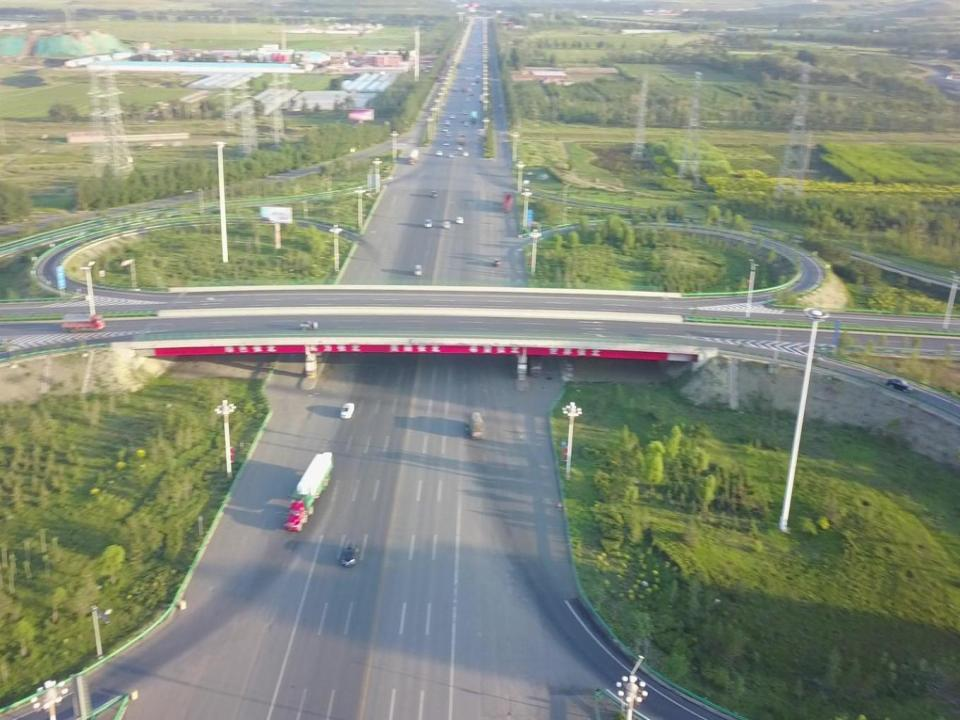car: (336, 538, 360, 570), (886, 376, 913, 395), (340, 399, 355, 424), (298, 319, 319, 332), (412, 264, 424, 278), (424, 218, 434, 230), (491, 258, 502, 268), (442, 220, 452, 231), (456, 214, 464, 226)
truck: (282, 447, 334, 534), (61, 313, 106, 334)
van: (468, 410, 485, 440)
